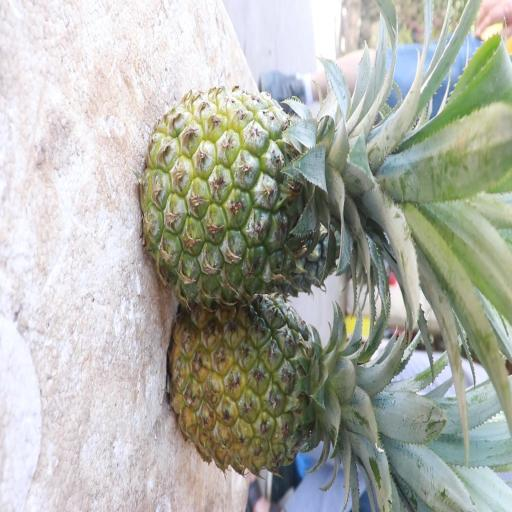------------------------------: (150, 72, 374, 296)
Pineapple - v8 v1: (167, 300, 374, 480)
